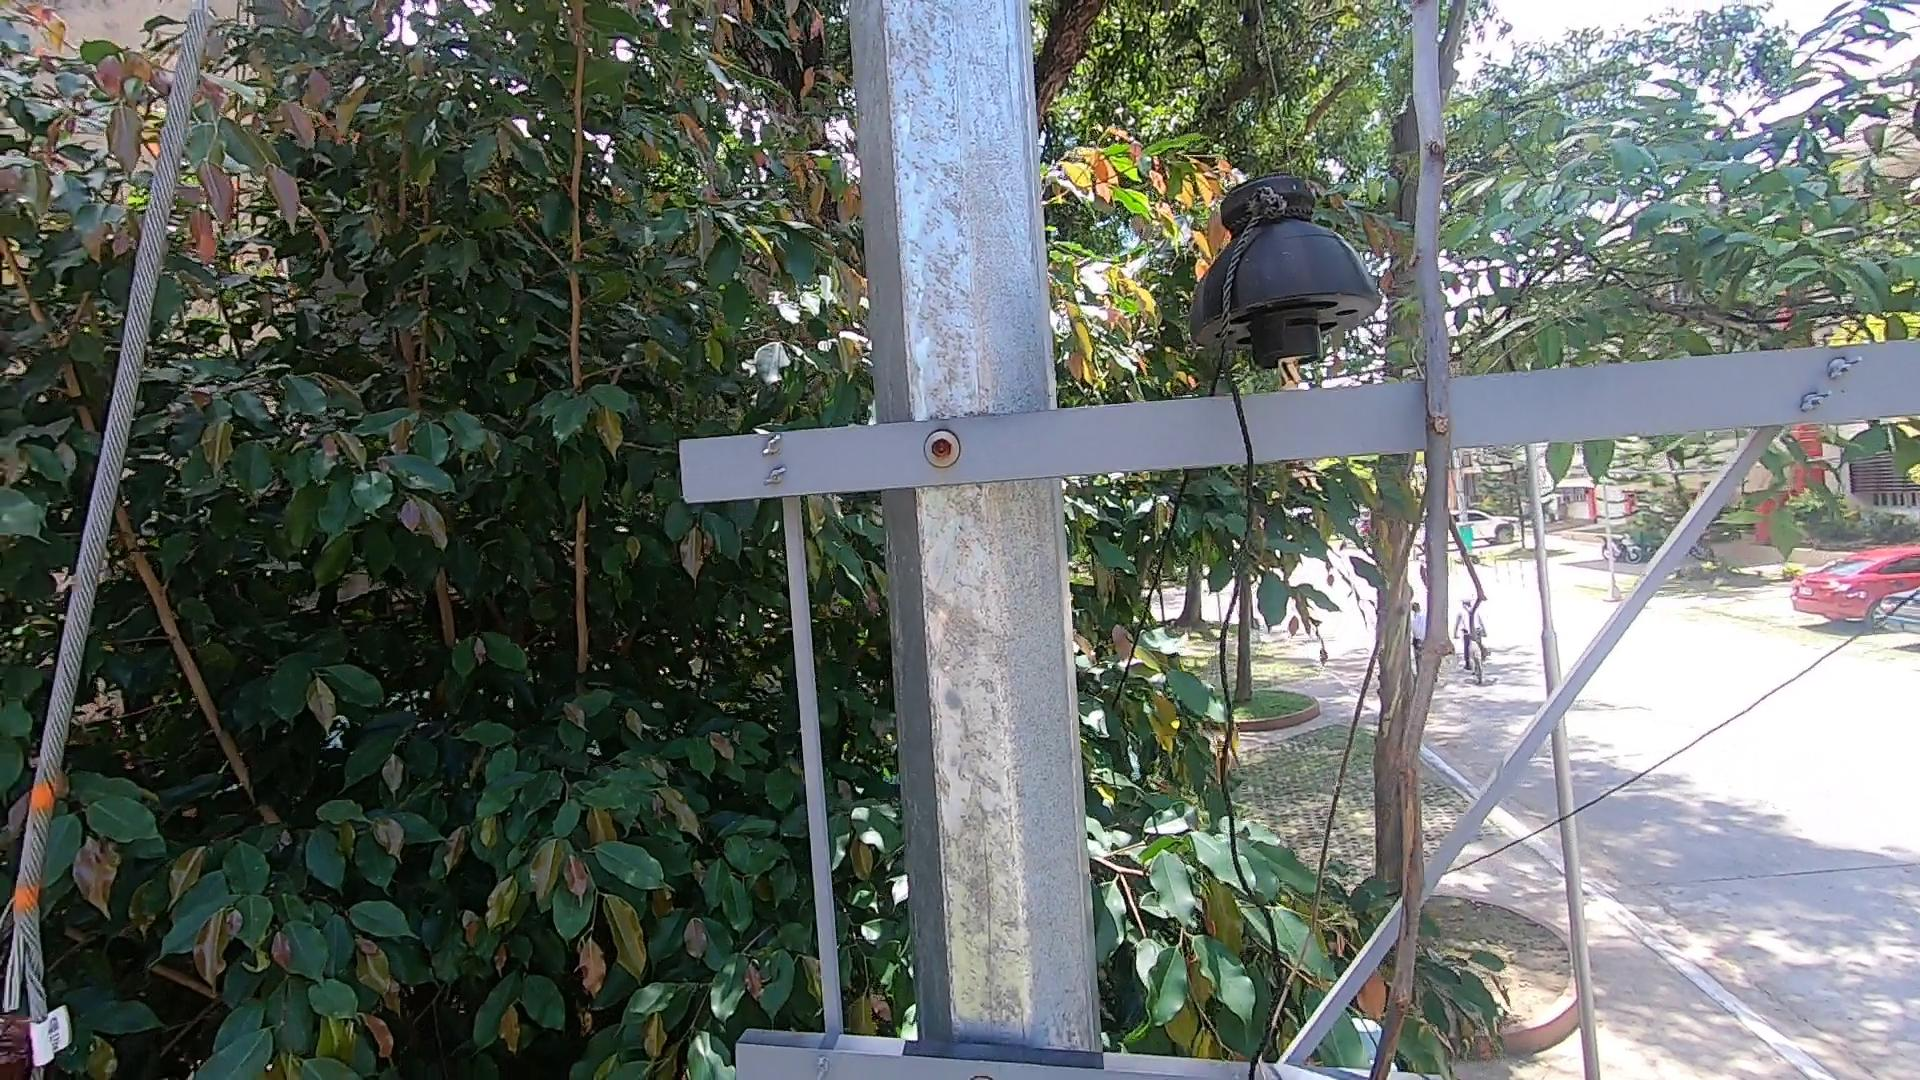branch with leaves: (1255, 943, 1462, 1080)
tree branch: (1358, 9, 1487, 1077)
